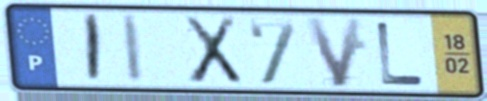7: (247, 15, 299, 87)
I: (119, 12, 146, 86), (85, 12, 103, 85)
L: (374, 19, 428, 88)
V: (301, 15, 367, 91)
X: (180, 14, 245, 87)
